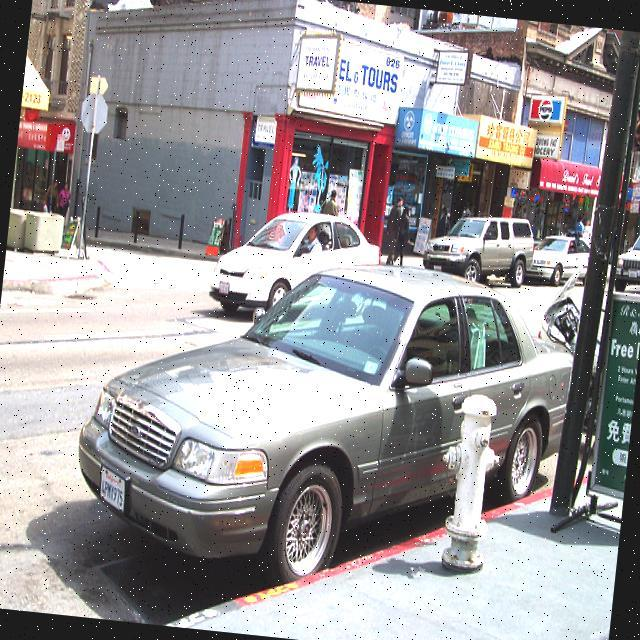fire_hydrant: (430, 388, 506, 574)
